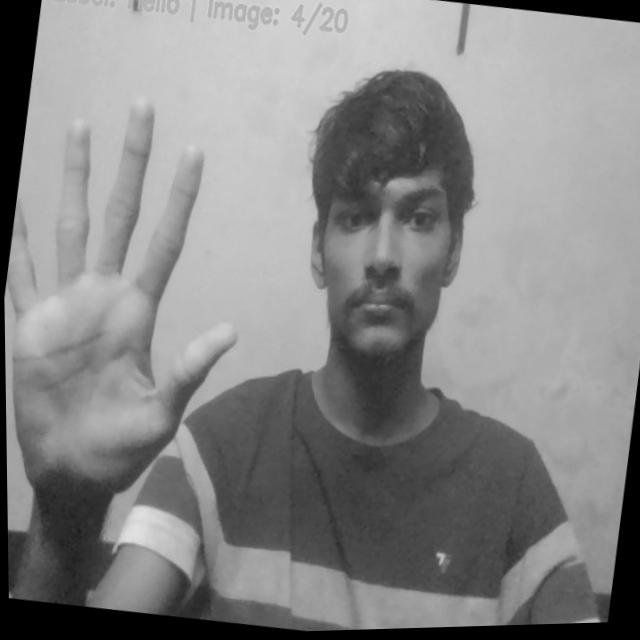Hello: (1, 77, 273, 526)
